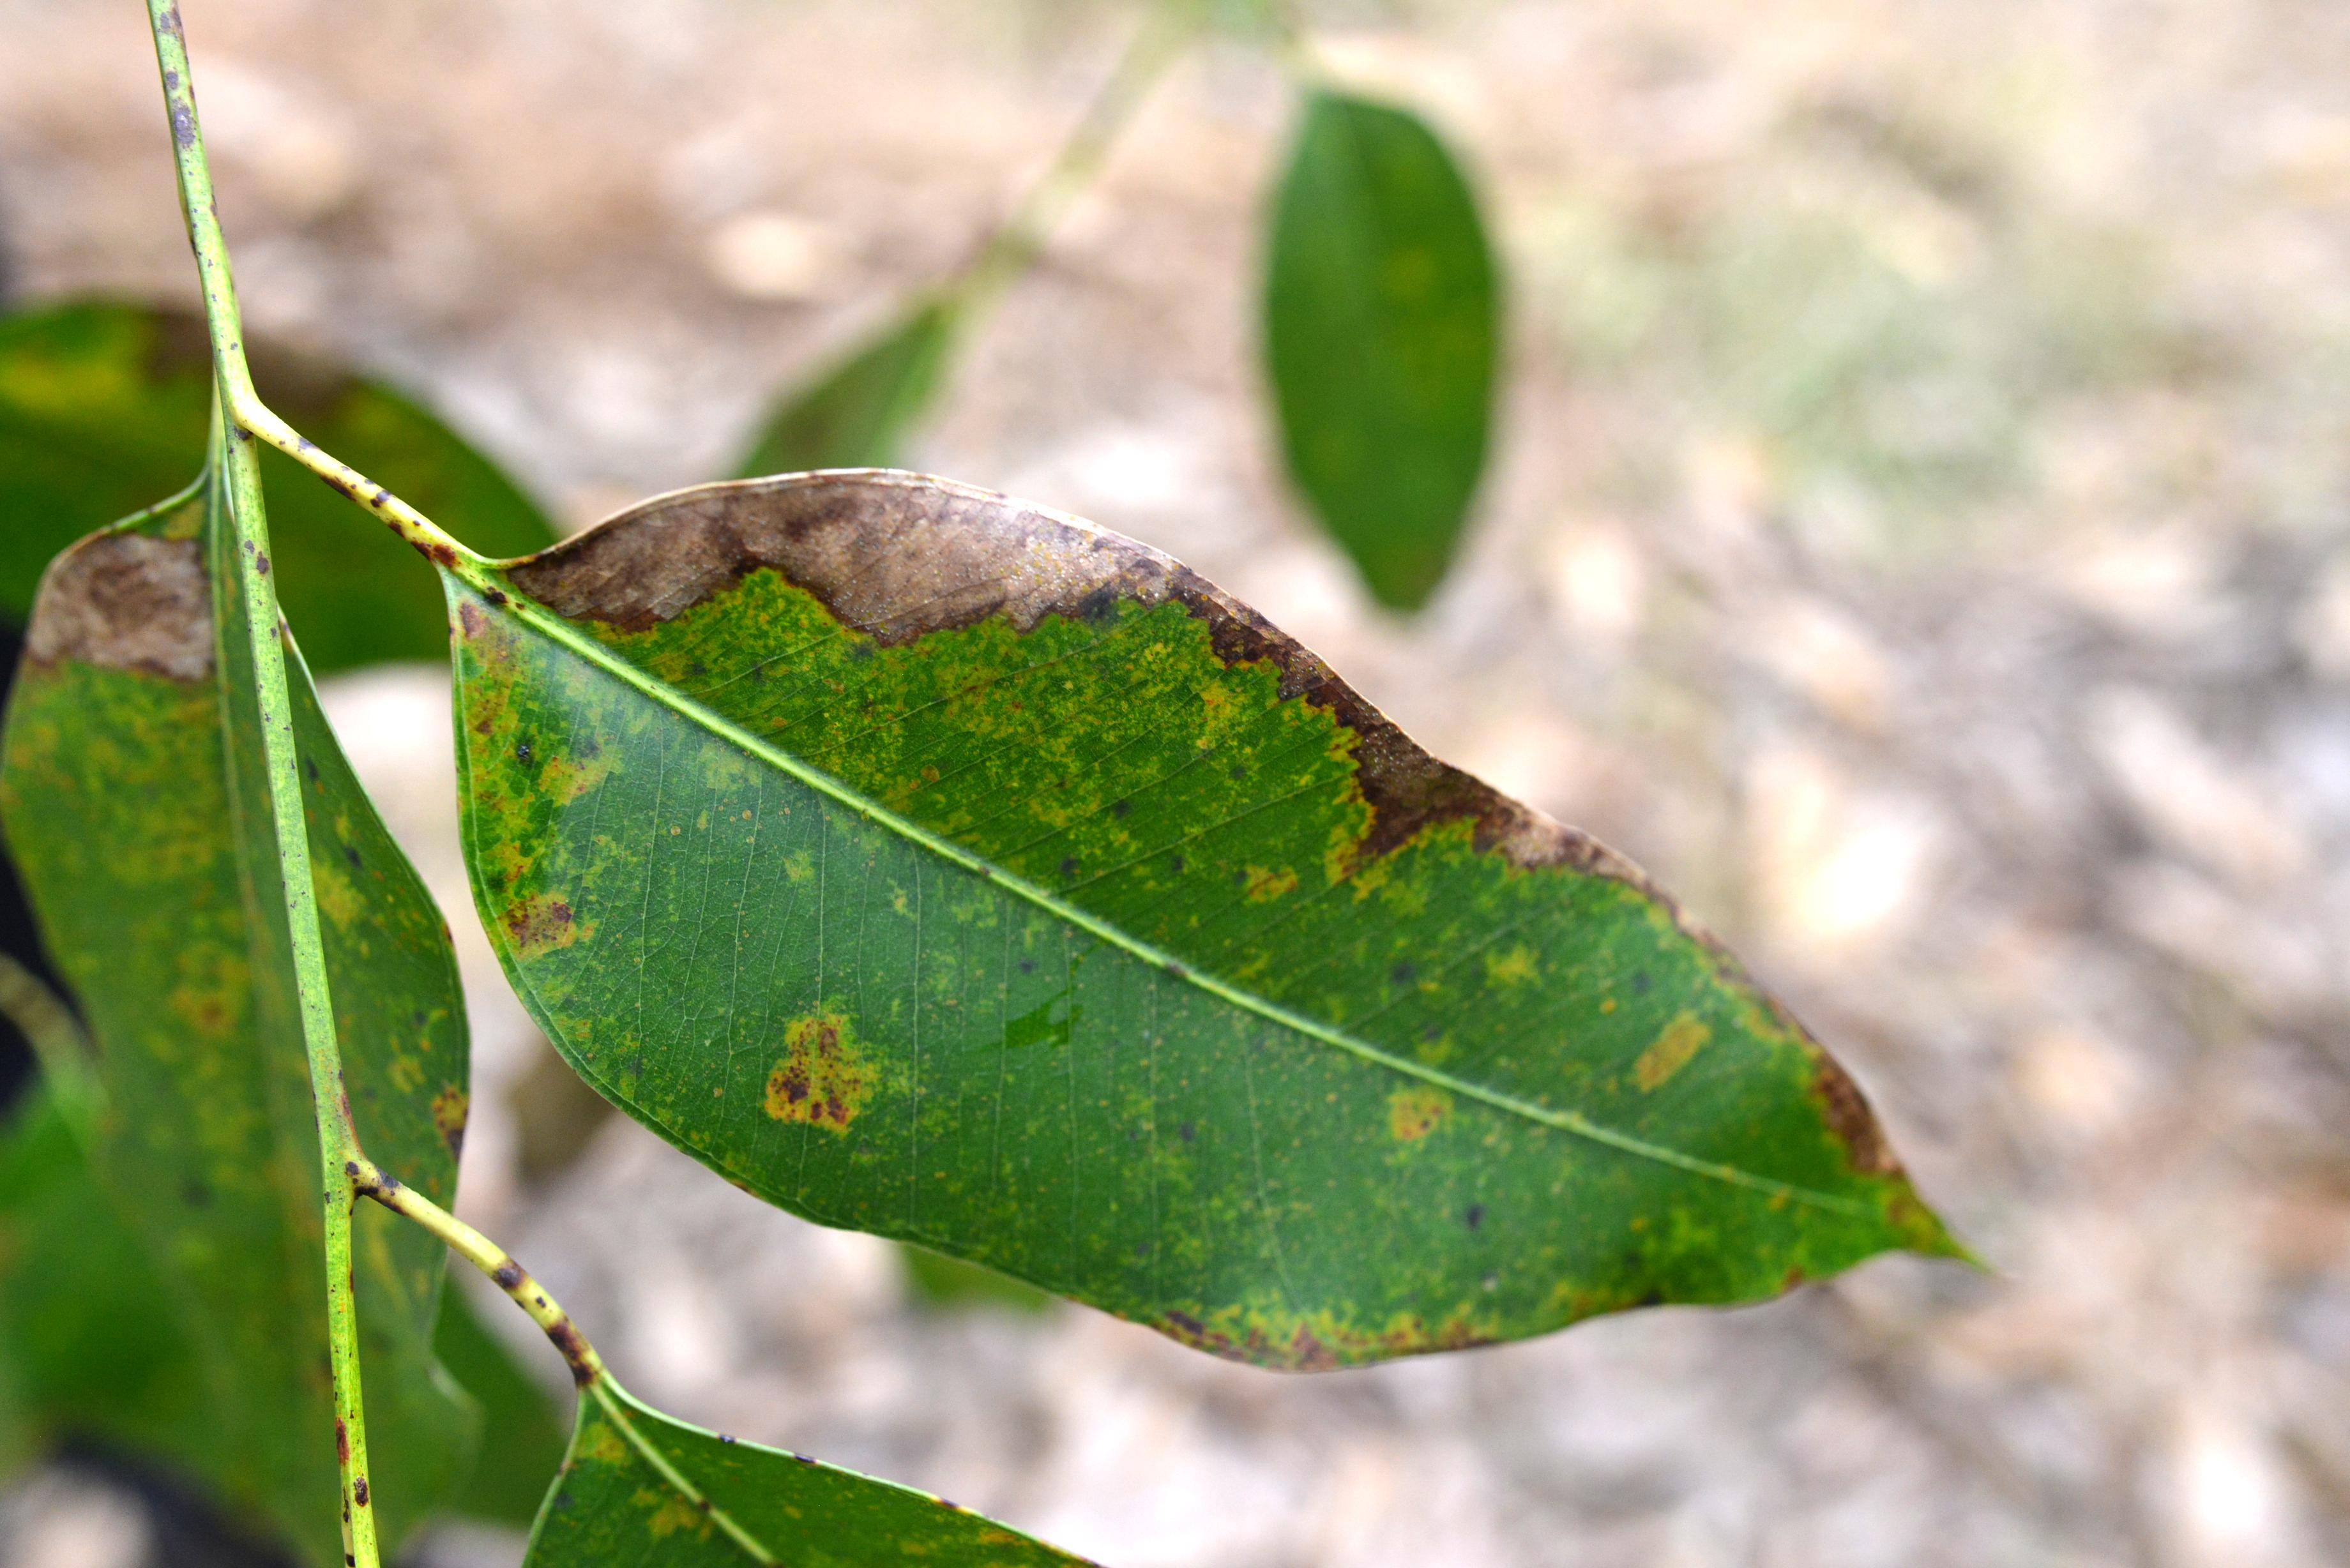Cylindrocladium: (483, 472, 1379, 756), (1171, 567, 1676, 924), (0, 518, 234, 710)
